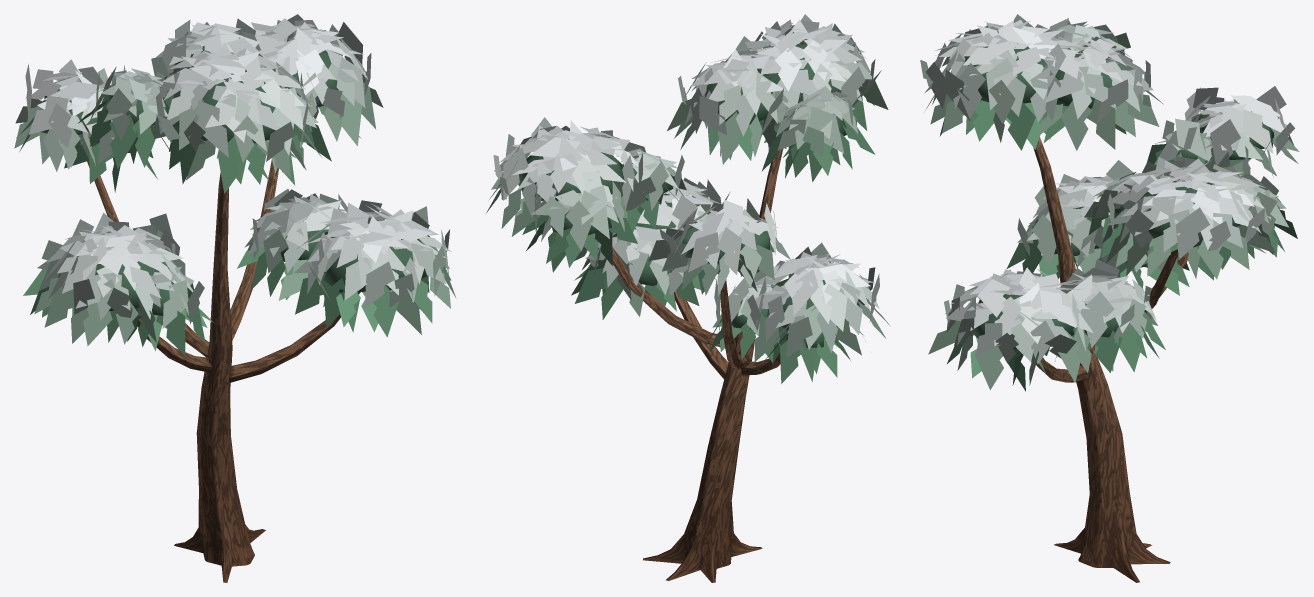
The model's file is tree_1_winter.glb.
3 views of the same model, side by side, from view 1: azimuth 30°, elevation 25°; view 2: azimuth 150°, elevation 25°; view 3: azimuth 270°, elevation 25° (orthographic). The views are drawn at different scales.
Visible parts, largest first — view 1: tree_1_winter; view 2: tree_1_winter; view 3: tree_1_winter.
Boxes of the visible parts, bbox=[...] form: tree_1_winter: bbox=[14, 14, 456, 582]; tree_1_winter: bbox=[486, 14, 890, 582]; tree_1_winter: bbox=[920, 14, 1299, 582].
Size of the model in its own units: 4.9 by 7 by 4.7.
2 materials, 2 textured.
